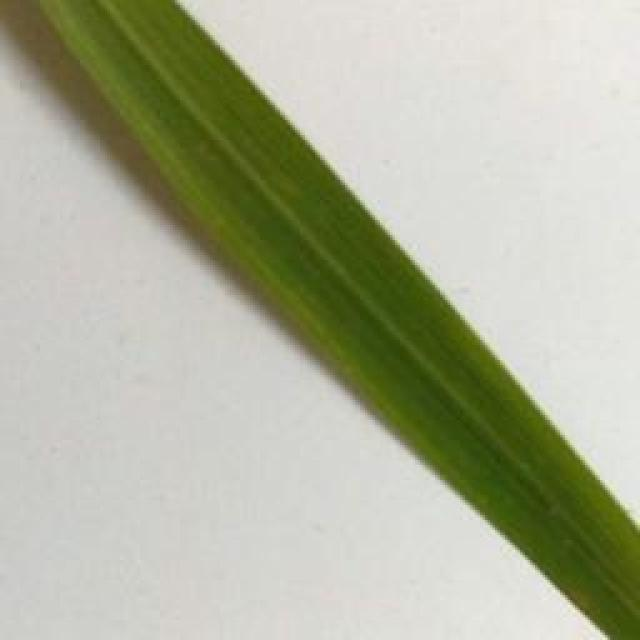Healthy-Plant: (42, 3, 640, 640)
